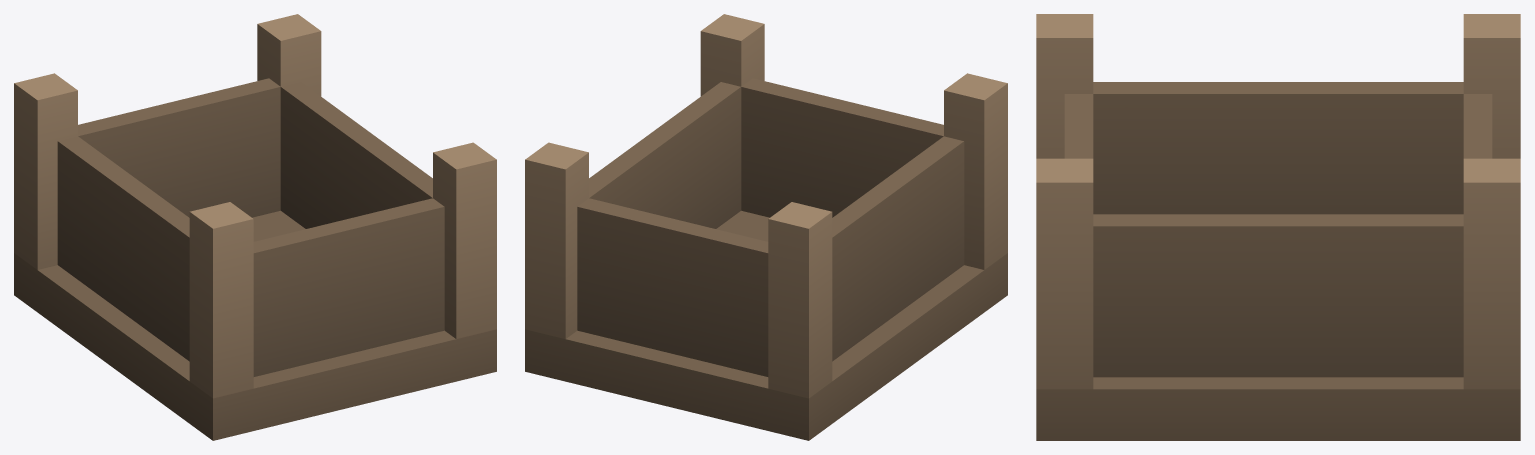
File: K_Crate.glb
3 views of the same model, side by side, from view 1: azimuth 30°, elevation 25°; view 2: azimuth 150°, elevation 25°; view 3: azimuth 270°, elevation 25° (orthographic). The views are drawn at different scales.
Parts seen in each view (by area): view 1: K_Crate; view 2: K_Crate; view 3: K_Crate.
Part boxes in pixels (x1=…): K_Crate: x1=14, y1=14, x2=496, y2=440; K_Crate: x1=525, y1=14, x2=1007, y2=440; K_Crate: x1=1036, y1=14, x2=1520, y2=440.
Bounding box in the file's own units: 1.19 × 0.85 × 1.45.
